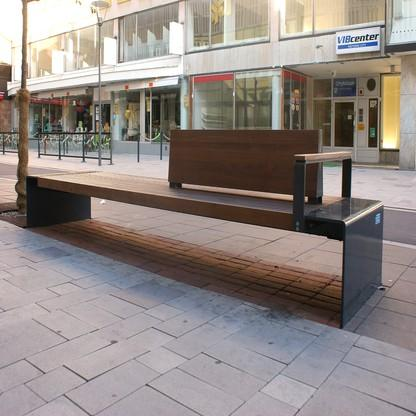obstacle: (123, 114, 356, 272)
